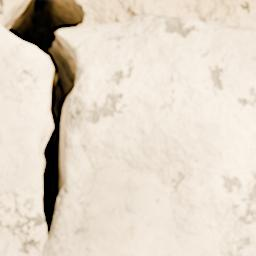broken_brick: (0, 14, 255, 255)
crack: (0, 0, 84, 254)
